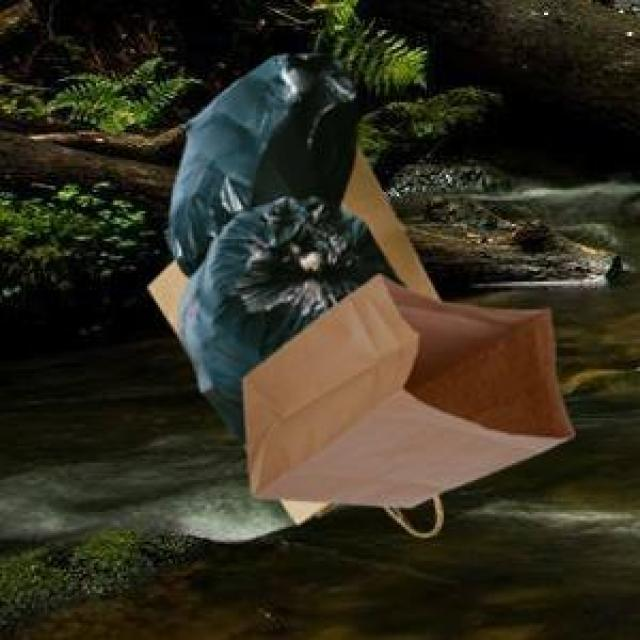miscellaneous trash: (164, 49, 401, 442)
paper: (145, 141, 437, 533), (239, 271, 570, 504)
